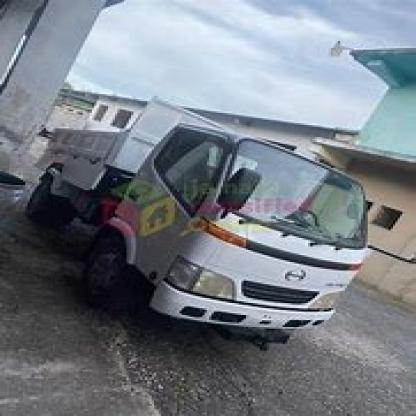dump_truck: (18, 91, 377, 351)
